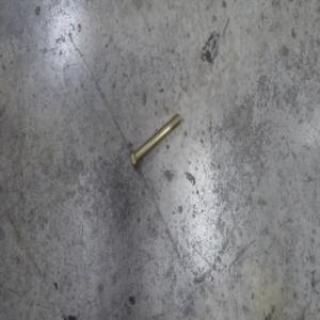Bolttrack_idkeyframe: (128, 110, 182, 170)
